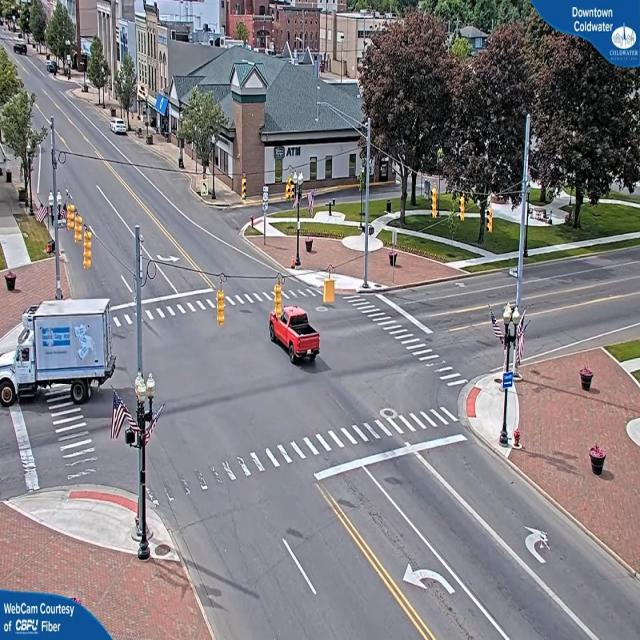car: (267, 302, 320, 364), (111, 121, 131, 138)
truck: (0, 299, 116, 405)
